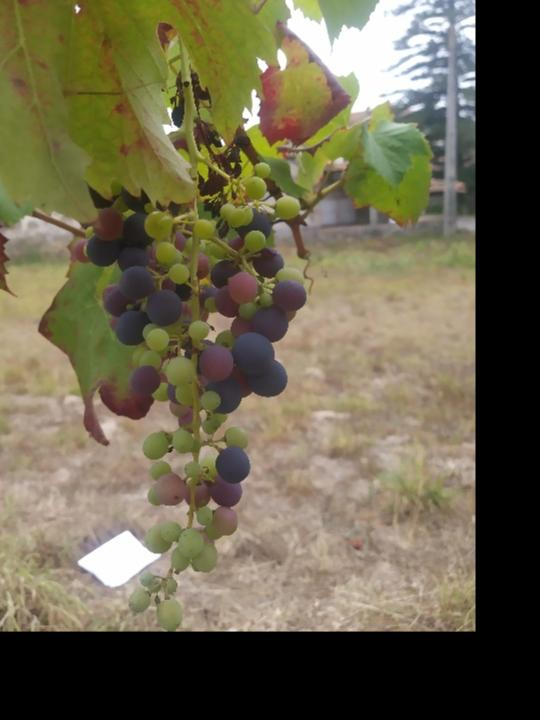grape: (80, 73, 308, 630)
